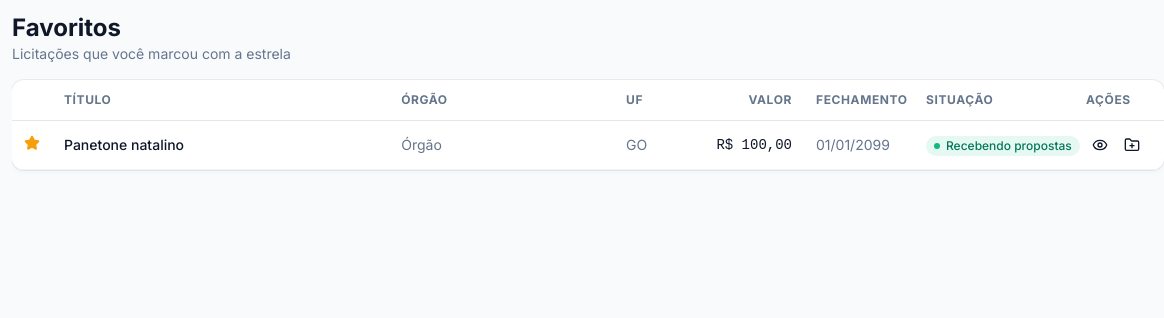
Test: Favoritos › desfavoritar tira o processo da lista
What coordinates should you click on to do the following:
click the button named "Remover dos favoritos"
I would click on:
 (32, 142)
Its box is [24,134,40,150].
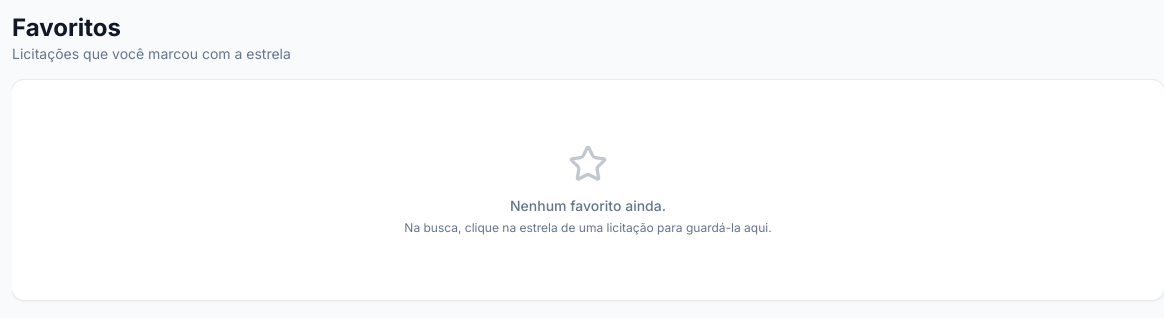
Now the button "Panetone natalino" is gone
